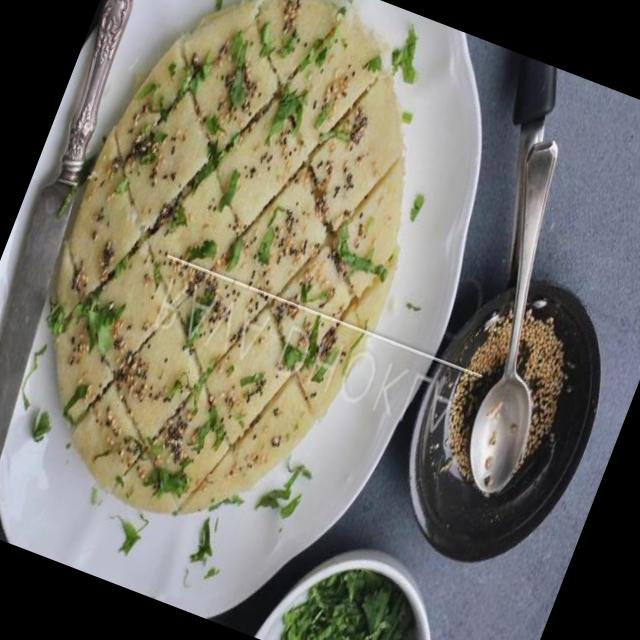dhokla: (0, 0, 479, 575)
